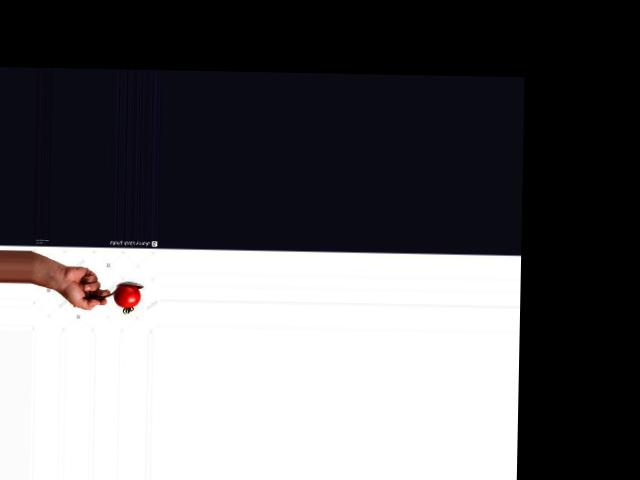tomato: (113, 285, 140, 308)
